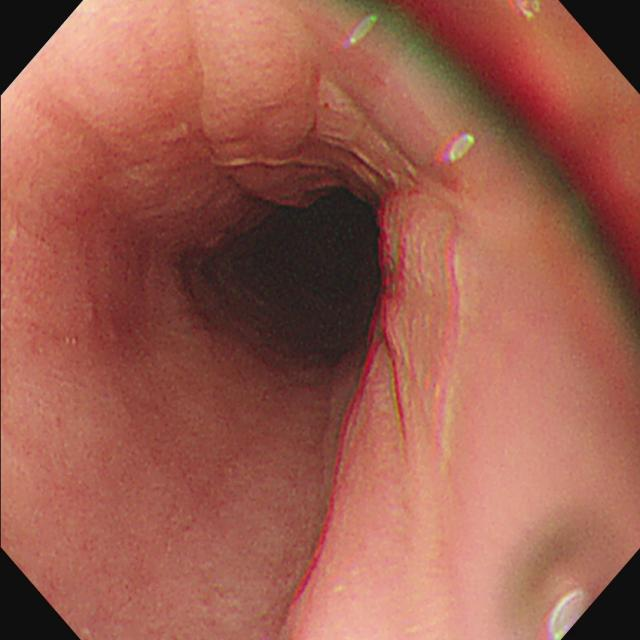E: (171, 177, 390, 375)
U: (546, 589, 588, 639), (441, 130, 477, 164), (349, 17, 380, 50)
